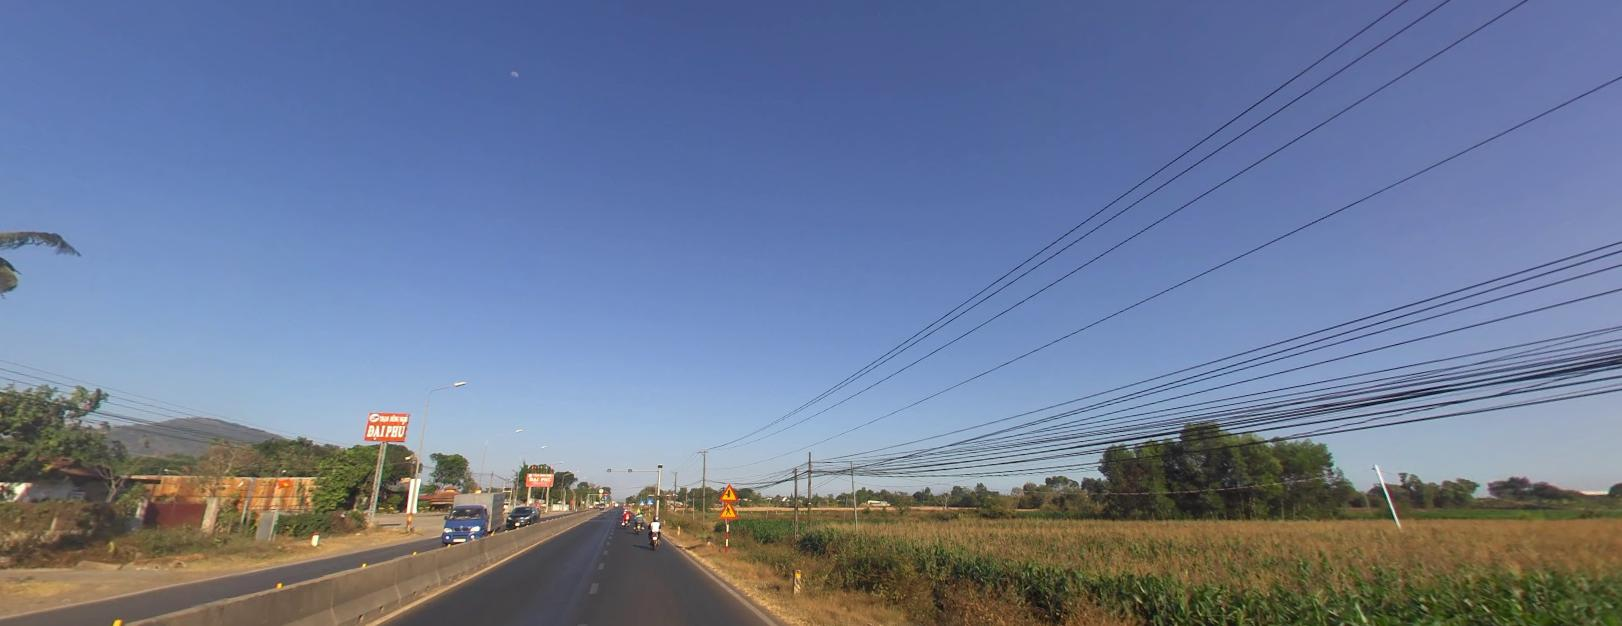Cam nguoc chieu: (603, 491, 607, 495)
Hieu lenh: (603, 494, 606, 498)
Nguy hiem: (718, 481, 739, 500), (717, 501, 737, 518)
